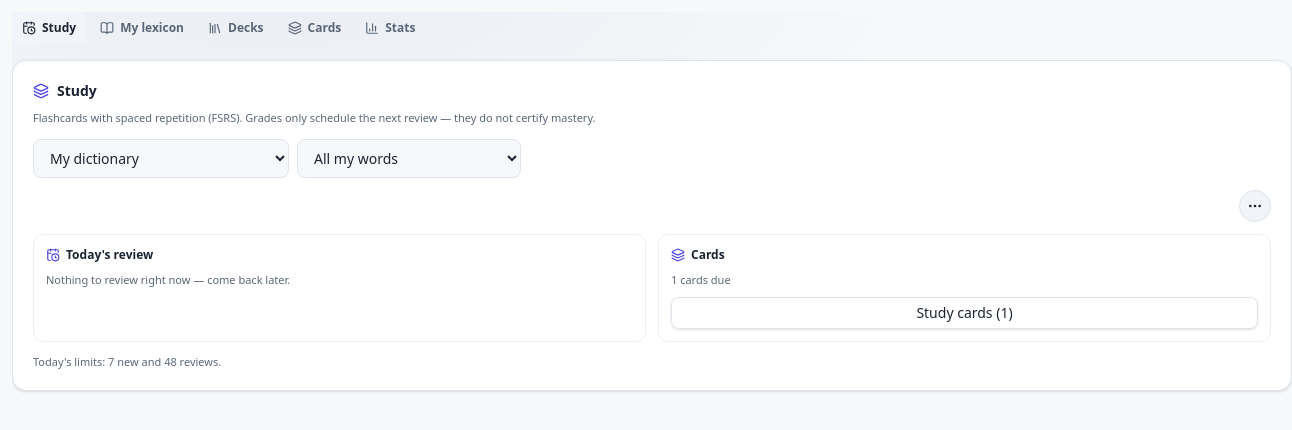
FlashcardsScreen › las estadísticas muestran repasos, acierto y previsión
This screenshot has width=1292, height=430.
Click the tab "Stats" at (390, 28), box [355,12,426,44]
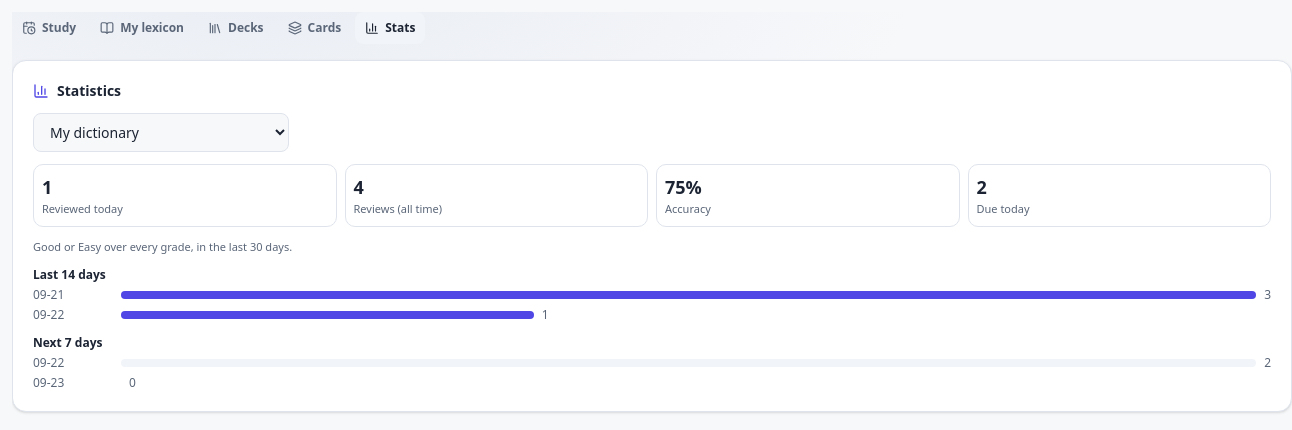
Check: the text "Accuracy" is shown, box [665,201,711,216]
Check: the text "75%" is shown, box [665,175,702,199]
Check: the text "Reviewed today" is shown, box [42,201,123,216]
